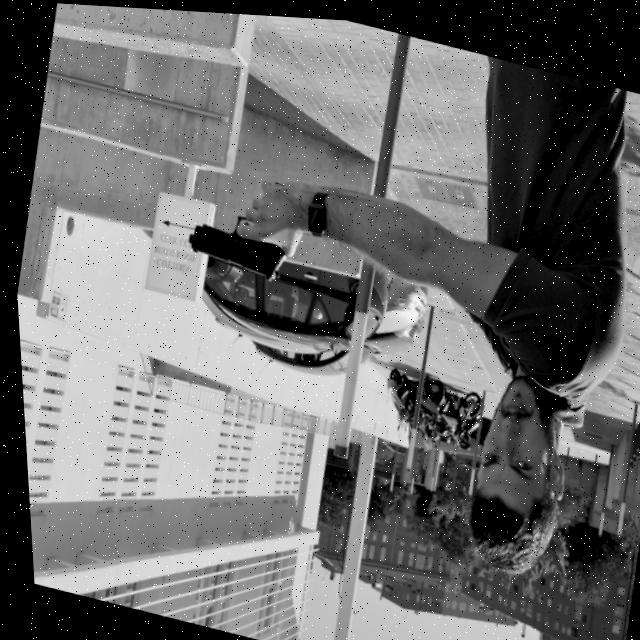pistol: (178, 198, 292, 282)
